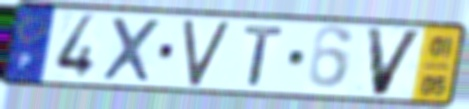4: (51, 11, 100, 83)
6: (305, 22, 357, 97)
T: (241, 24, 287, 88)
V: (363, 25, 427, 98), (181, 19, 233, 89)
X: (99, 14, 164, 85)
